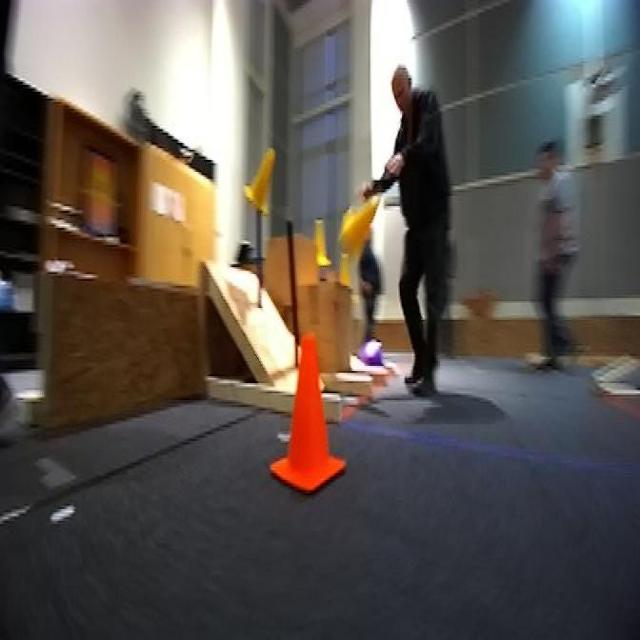frc_cone: (341, 184, 384, 264), (247, 146, 273, 210), (310, 211, 332, 276), (330, 238, 352, 298)
frc_cube: (358, 338, 383, 368)
